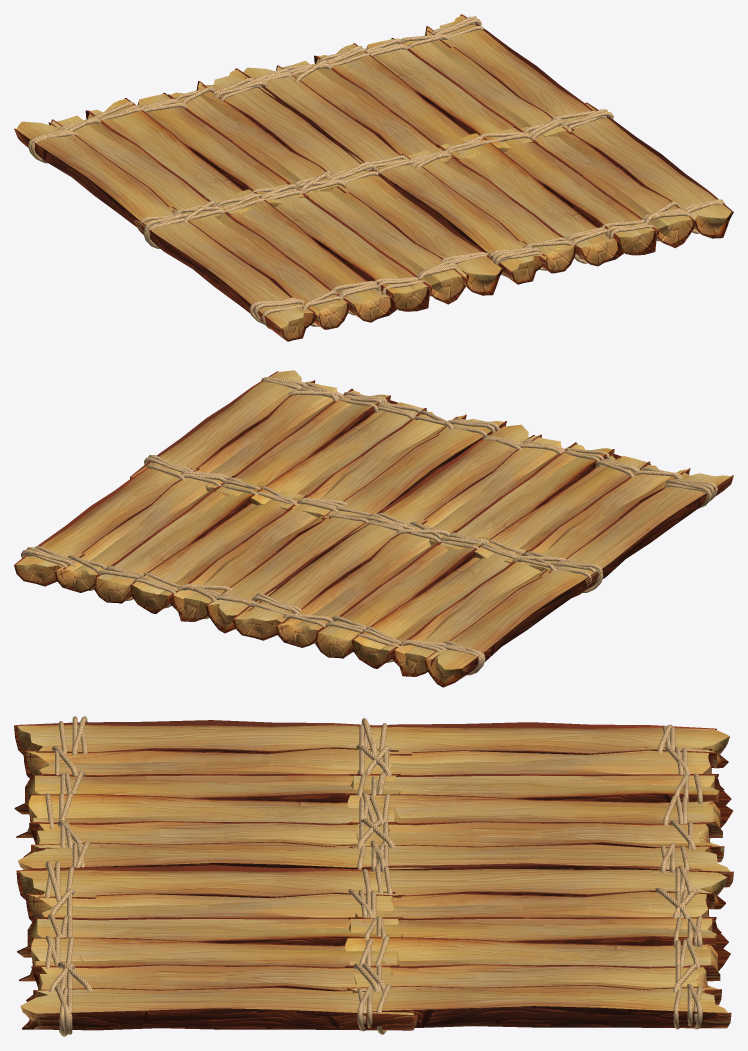
Rendered from radeau_04.FBX.
The picture shows the model from 3 angles, top to bottom: view 1: azimuth 30°, elevation 25°; view 2: azimuth 150°, elevation 25°; view 3: azimuth 270°, elevation 25°; orthographic projection. The views are drawn at different scales.
Visible parts, largest first — view 1: radeau_mesh; view 2: radeau_mesh; view 3: radeau_mesh.
Boxes of the visible parts, box(x1,y1,x2,y2) form: radeau_mesh: box(14, 14, 733, 341); radeau_mesh: box(14, 370, 733, 687); radeau_mesh: box(14, 716, 733, 1036).
Bounding box in the file's own units: 212 × 14.29 × 218.
Materials: 1 (1 with a texture image).
